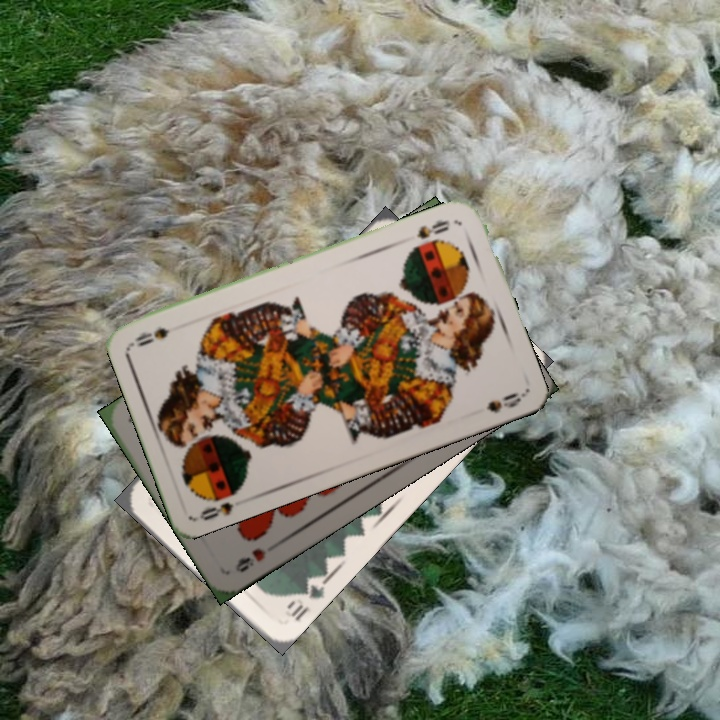G10: (282, 571, 328, 624)
H9: (231, 544, 269, 576)
SO: (195, 498, 237, 523), (412, 216, 452, 242)
